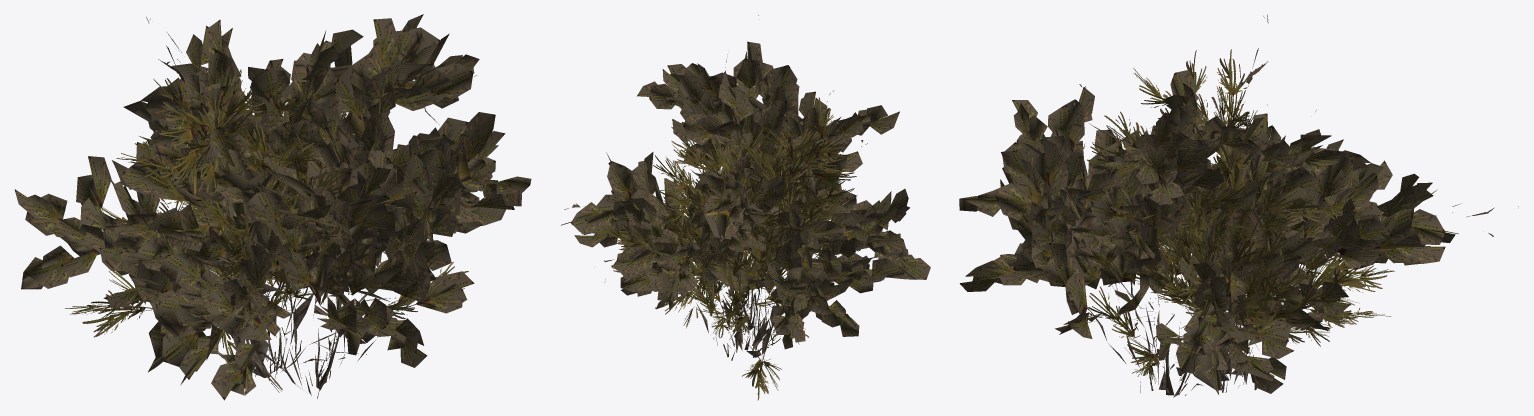
Rendered from wild-rooibos-bush.glb.
3 views of the same model, side by side, from view 1: azimuth 30°, elevation 25°; view 2: azimuth 150°, elevation 25°; view 3: azimuth 270°, elevation 25° (orthographic). The views are drawn at different scales.
Parts seen in each view (by area): view 1: wild_rooibos_bush_a, wild_rooibos_bush_b, wild_rooibos_bush_c, wild_rooibos_bush_d; view 2: wild_rooibos_bush_a, wild_rooibos_bush_b, wild_rooibos_bush_c, wild_rooibos_bush_d, wild_rooibos_bush_e; view 3: wild_rooibos_bush_a, wild_rooibos_bush_b, wild_rooibos_bush_d, wild_rooibos_bush_c.
Boxes of the visible parts, x1,y1,x2,y2 form: wild_rooibos_bush_a: [14, 14, 531, 400]; wild_rooibos_bush_b: [65, 17, 468, 377]; wild_rooibos_bush_c: [115, 108, 356, 376]; wild_rooibos_bush_d: [185, 94, 347, 378]; wild_rooibos_bush_a: [561, 15, 930, 349]; wild_rooibos_bush_b: [607, 97, 856, 400]; wild_rooibos_bush_c: [599, 124, 853, 360]; wild_rooibos_bush_d: [653, 136, 827, 346]; wild_rooibos_bush_e: [689, 212, 791, 357]; wild_rooibos_bush_a: [959, 70, 1518, 397]; wild_rooibos_bush_b: [1088, 14, 1391, 395]; wild_rooibos_bush_d: [1159, 147, 1367, 392]; wild_rooibos_bush_c: [1087, 108, 1394, 385].
Bounding box in the file's own units: 0.6675 × 0.5406 × 0.8326.
15 materials, 15 textured.
